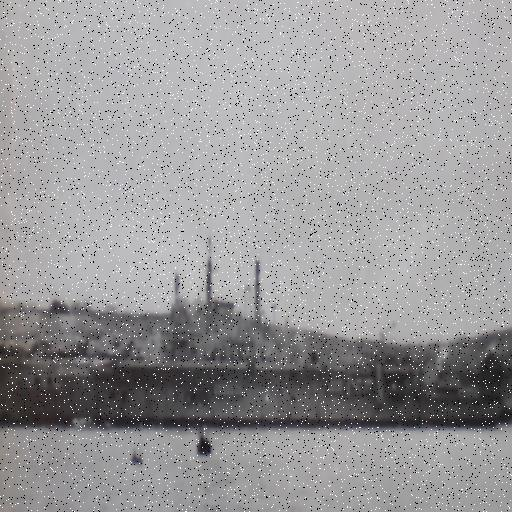Portanaves: (1, 232, 507, 431)
